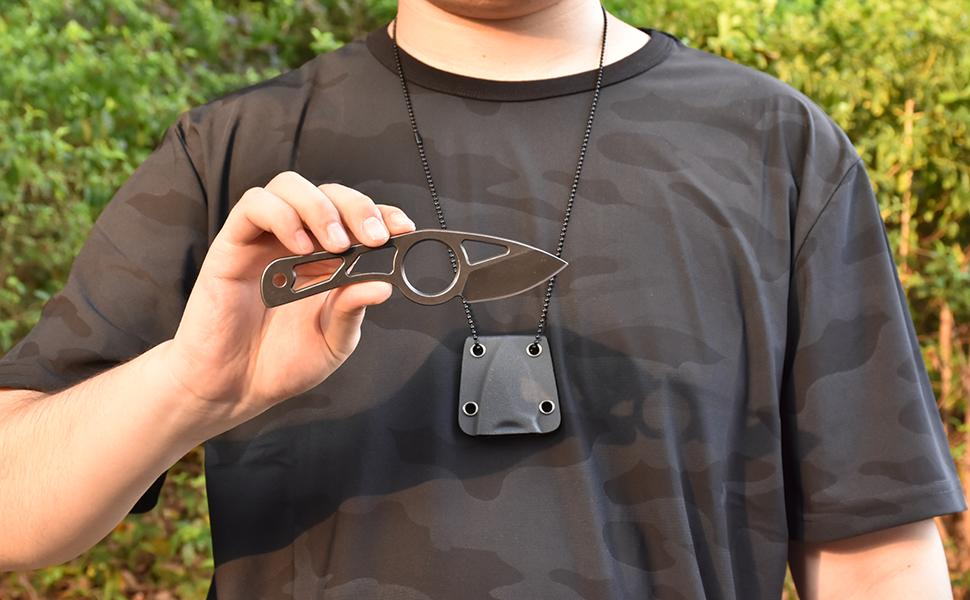Knife: (0, 0, 970, 600), (192, 166, 412, 389), (275, 231, 577, 309)
